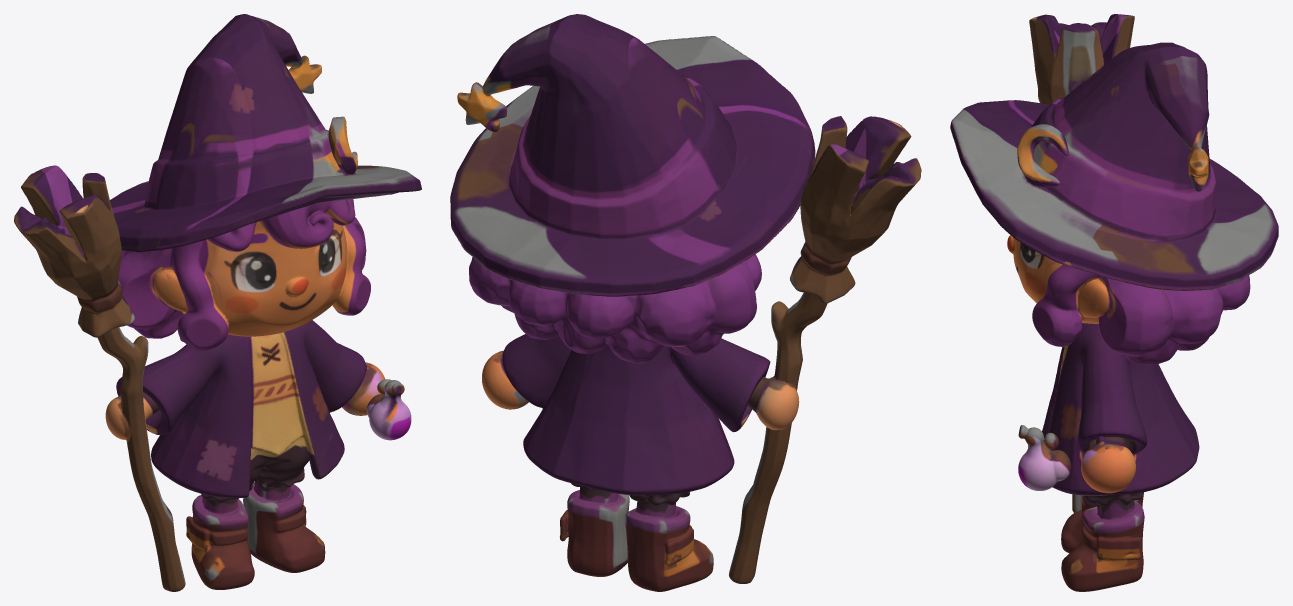
The model's file is witch.glb.
3 renders of one model, left to right at view 1: azimuth 30°, elevation 25°; view 2: azimuth 150°, elevation 25°; view 3: azimuth 270°, elevation 25°, orthographic. The views are drawn at different scales.
Parts seen in each view (by area): view 1: tripo_node_d1ac8c37-b547-4bd7-afbd-b76efef2a7aa; view 2: tripo_node_d1ac8c37-b547-4bd7-afbd-b76efef2a7aa; view 3: tripo_node_d1ac8c37-b547-4bd7-afbd-b76efef2a7aa.
Boxes of the visible parts, box(x1,y1,x2,y2) form: tripo_node_d1ac8c37-b547-4bd7-afbd-b76efef2a7aa: box(14, 14, 421, 591); tripo_node_d1ac8c37-b547-4bd7-afbd-b76efef2a7aa: box(450, 14, 921, 591); tripo_node_d1ac8c37-b547-4bd7-afbd-b76efef2a7aa: box(950, 14, 1278, 591).
Size of the model in its own units: 0.7767 by 1 by 0.5559.
1 material, 1 textured.
